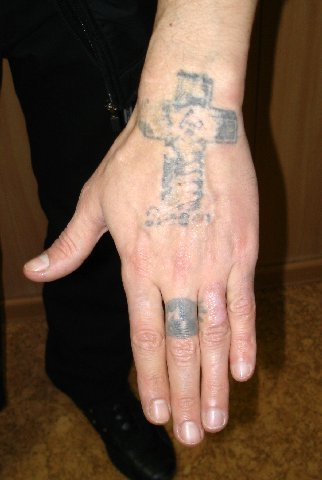tatu9_krest: (151, 68, 233, 206)
